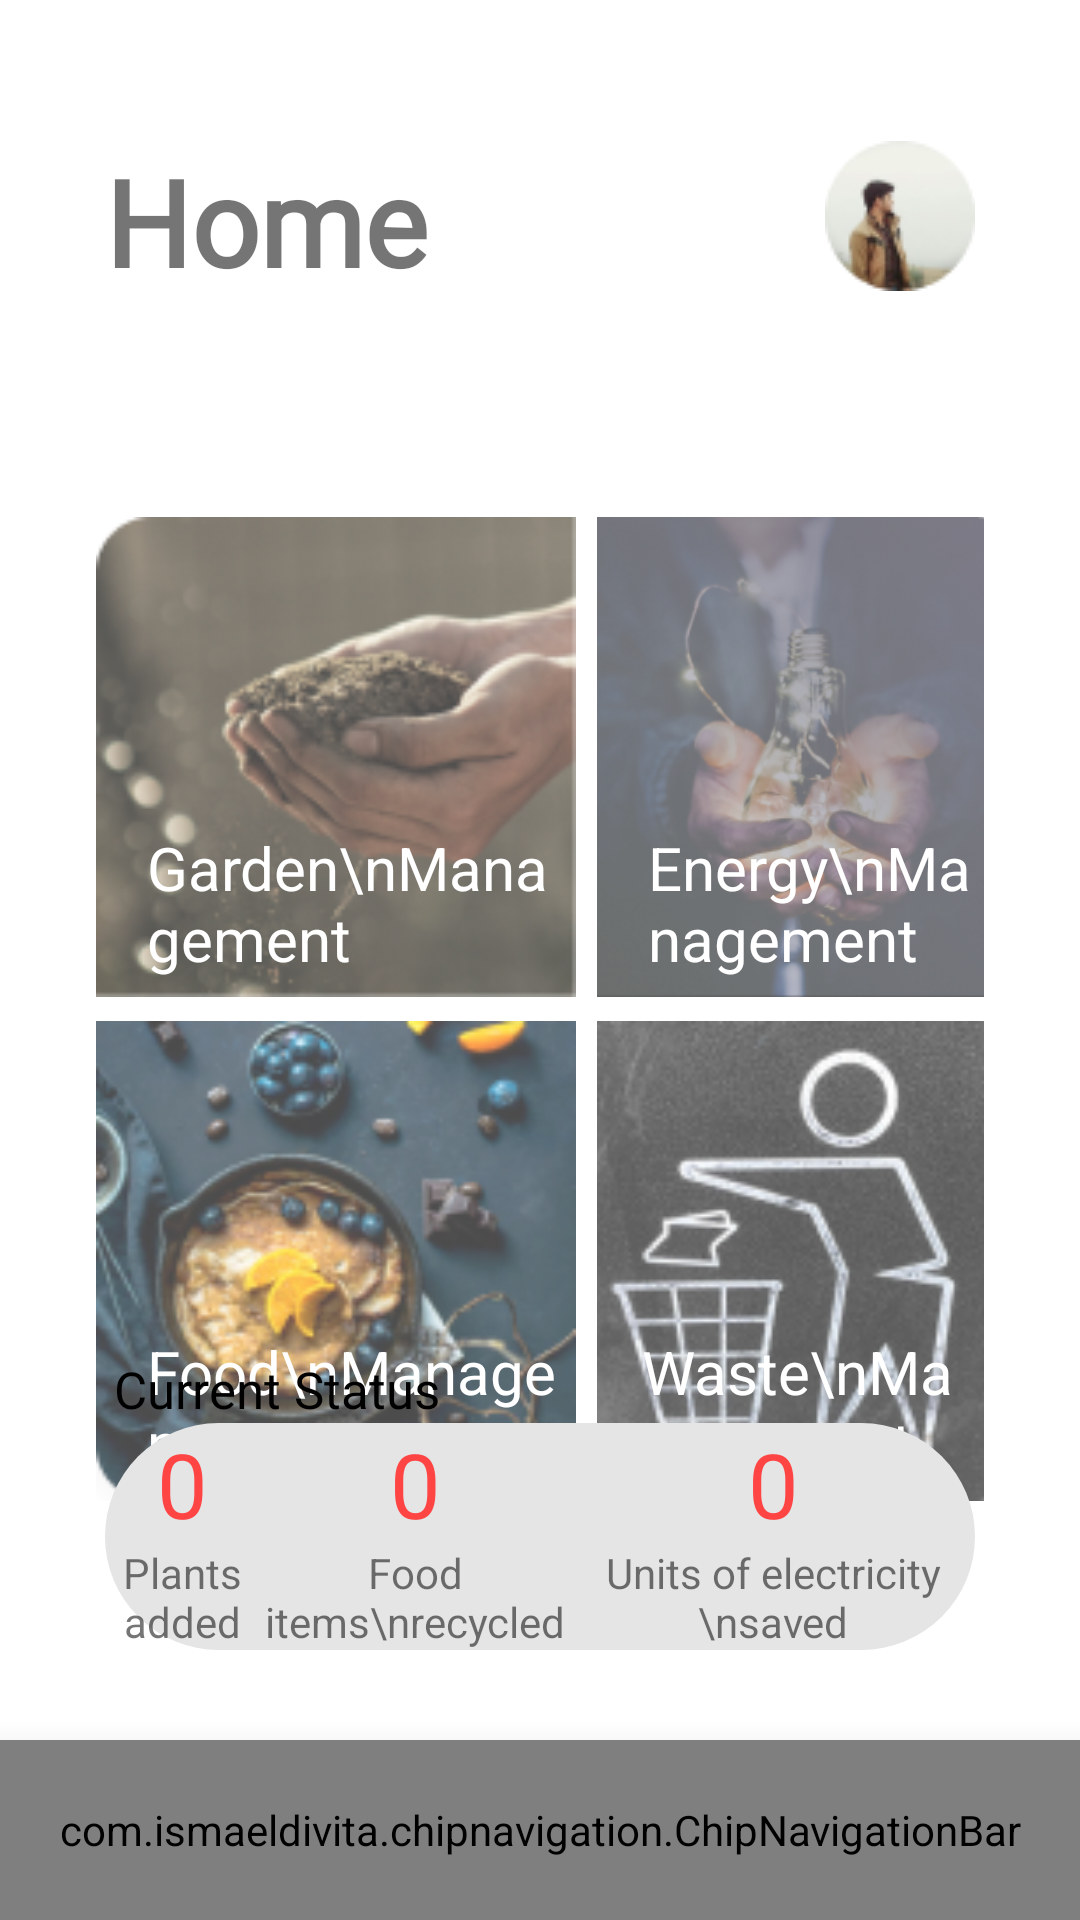

Screen size 1080px x 1920px. Icon name, then its box in pixels as BBox(x1, y1, x2, y2):
profile: BBox(825, 141, 975, 291)
